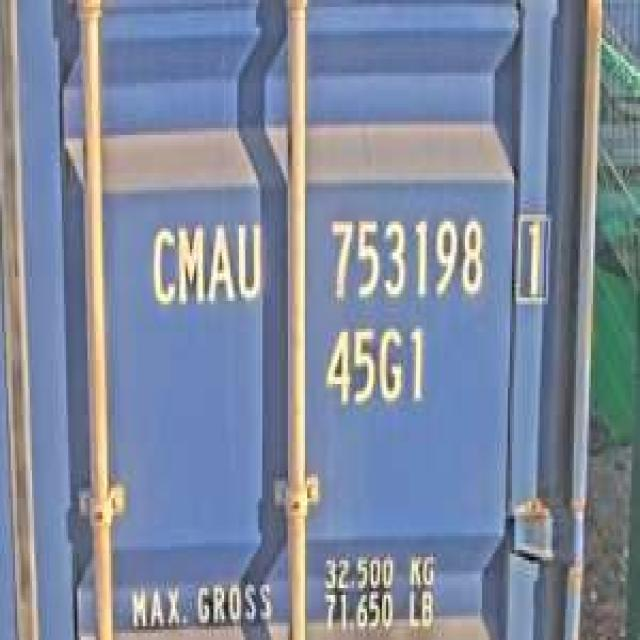dv: (510, 204, 556, 310)
owner: (143, 211, 264, 311)
serial: (322, 207, 489, 308)
size: (320, 315, 431, 415)
